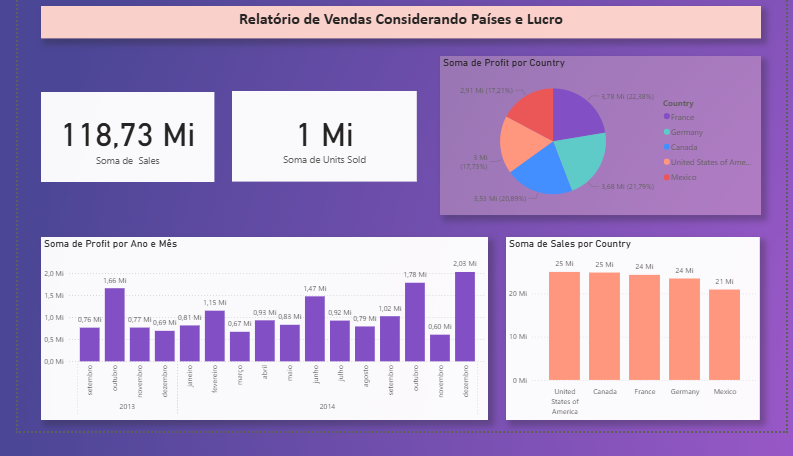

Layout of this report page (visuals, bound fields, positions):
{"tool":"powerbi","page":{"name":"Página 2","canvas":[1280,720],"ordinal":1},"visuals":[{"type":"textbox","box":[38,11.7,1200,54.1],"z":0},{"type":"card","fields":{"Values":["Sum(financials. Sales)"]},"box":[38.5,155.4,288.7,149.9],"z":1000},{"type":"card","fields":{"Values":["Sum(financials.Units Sold)"]},"box":[357.5,154,308,151.2],"z":2000},{"type":"pieChart","fields":{"Category":["financials.Country"],"Y":["Sum(financials.Profit)"]},"box":[702.6,94.9,534.8,265.3],"z":3000},{"type":"clusteredColumnChart","fields":{"Y":["Sum(financials.Profit)"],"Category":["financials.Date.Variation.Hierarquia de datas.Ano","financials.Date.Variation.Hierarquia de datas.Mês"]},"box":[38.5,396,745.2,305.2],"z":4000},{"type":"clusteredColumnChart","fields":{"Category":["financials.Country"],"Y":["Sum(financials. Sales)"]},"box":[813.9,396,423.5,305.2],"z":5000}]}

Visuals, with their boxes in screenshot pixels (x1, y1, x2, y2), scaled from the page's 1280x720 canvas onto the 793x456 screenshot:
textbox: rect(24, 7, 767, 42)
card - Sum(financials. Sales): rect(24, 98, 203, 193)
card - Sum(financials.Units Sold): rect(221, 98, 412, 193)
pieChart - financials.Country x Sum(financials.Profit): rect(435, 60, 767, 228)
clusteredColumnChart - Sum(financials.Profit) x financials.Date.Variation.Hierarquia de datas.Ano: rect(24, 251, 486, 444)
clusteredColumnChart - financials.Country x Sum(financials. Sales): rect(504, 251, 767, 444)
